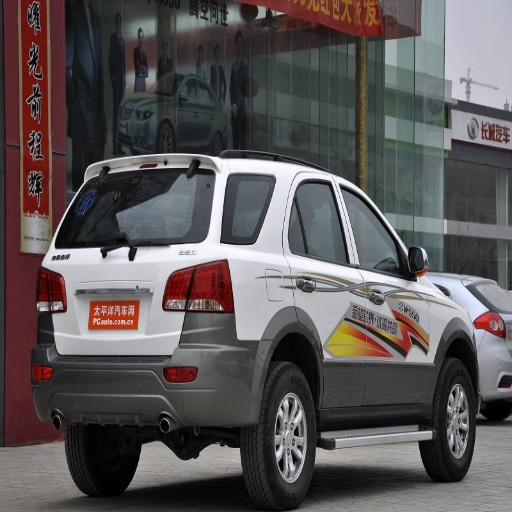back_bumper: (34, 312, 270, 424)
back_right_door: (284, 171, 364, 415)
trunk: (52, 246, 195, 351)
